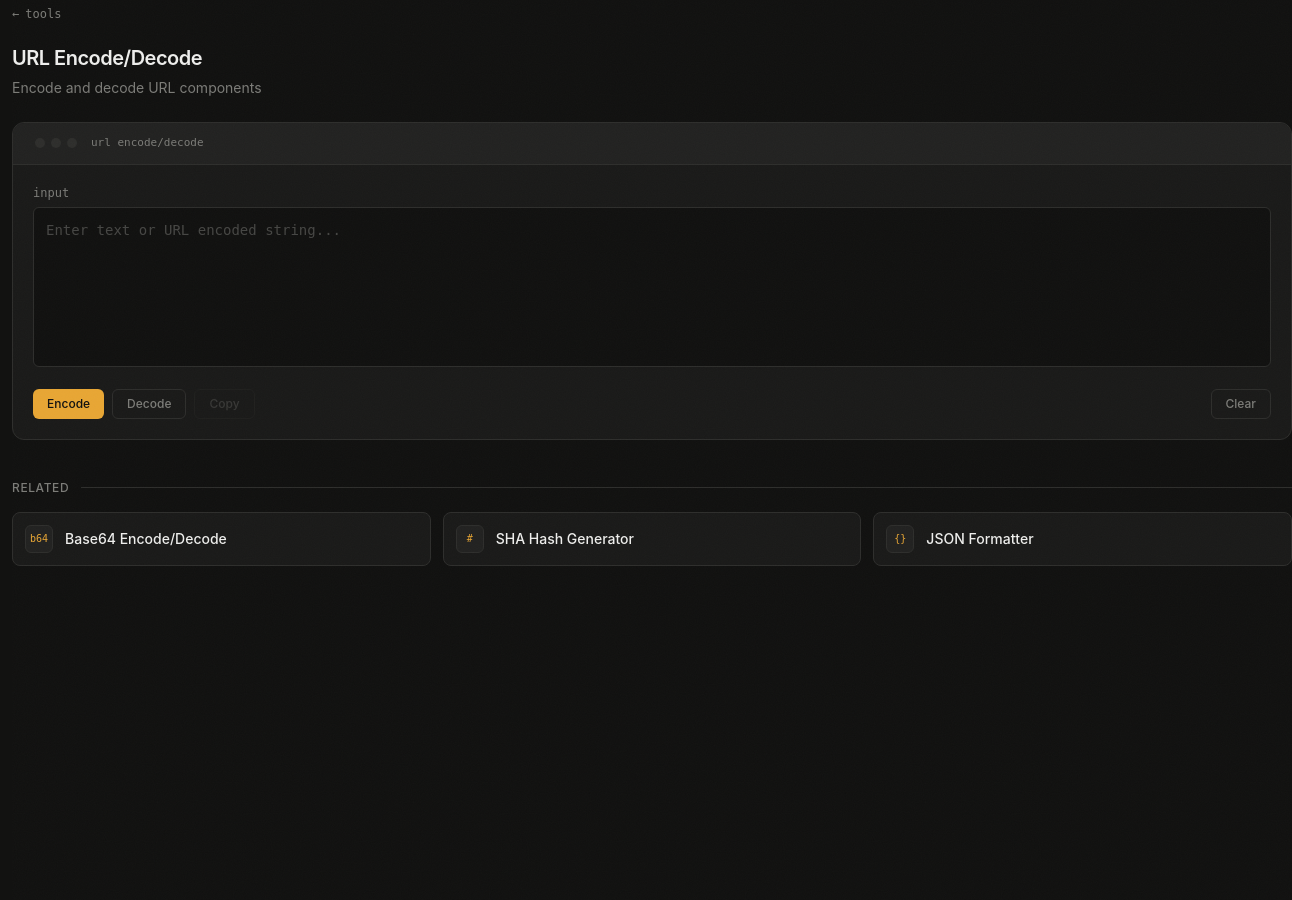
Test: URL Encode/Decode › decodes URL components
Type "hello%20world%26foo%3Dbar" into the text box with placeholder "Enter text or URL encoded string..." at (652, 286), box [33,206,1271,366]
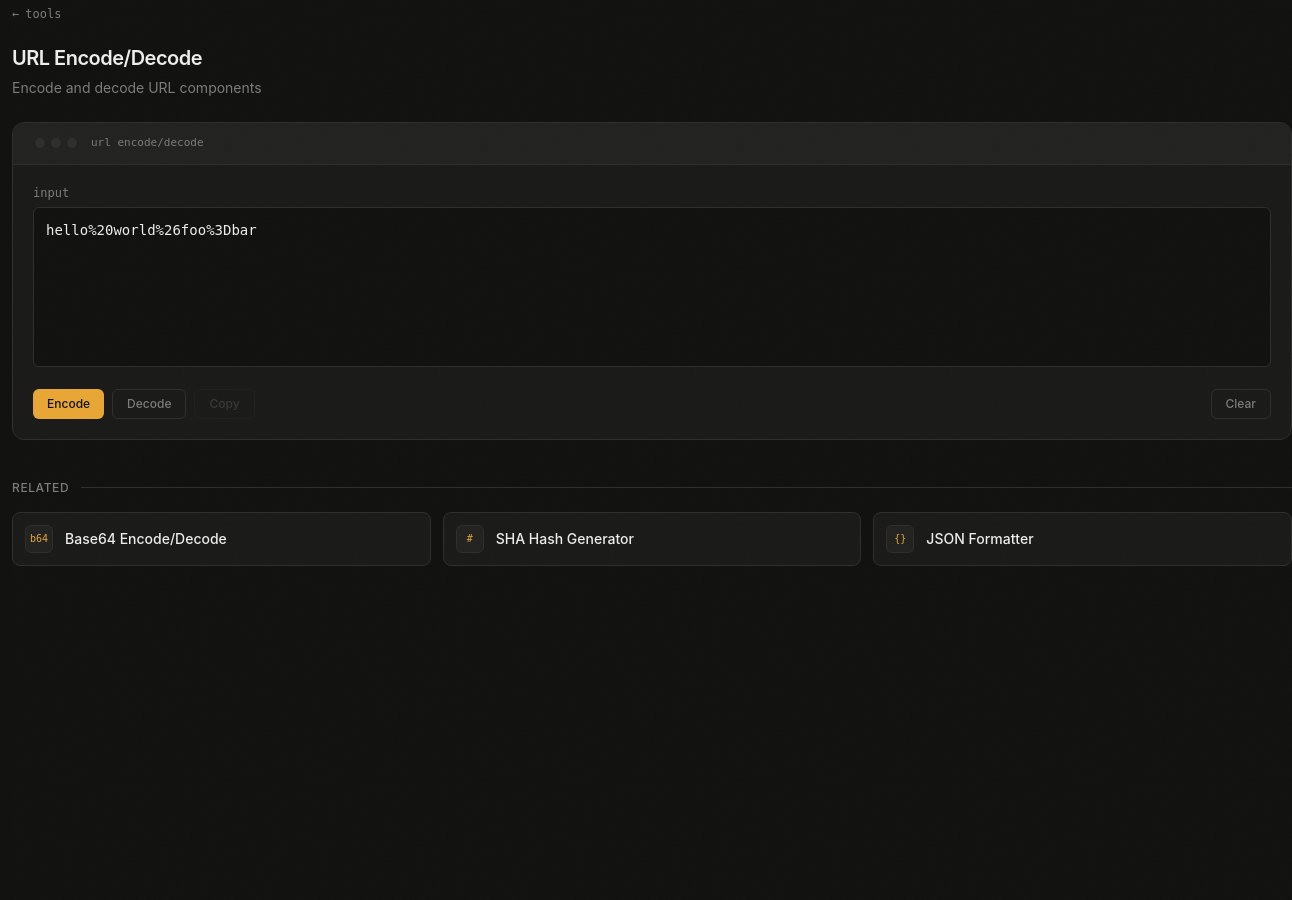
Click the button "Decode" at (149, 404), box [112,388,186,418]
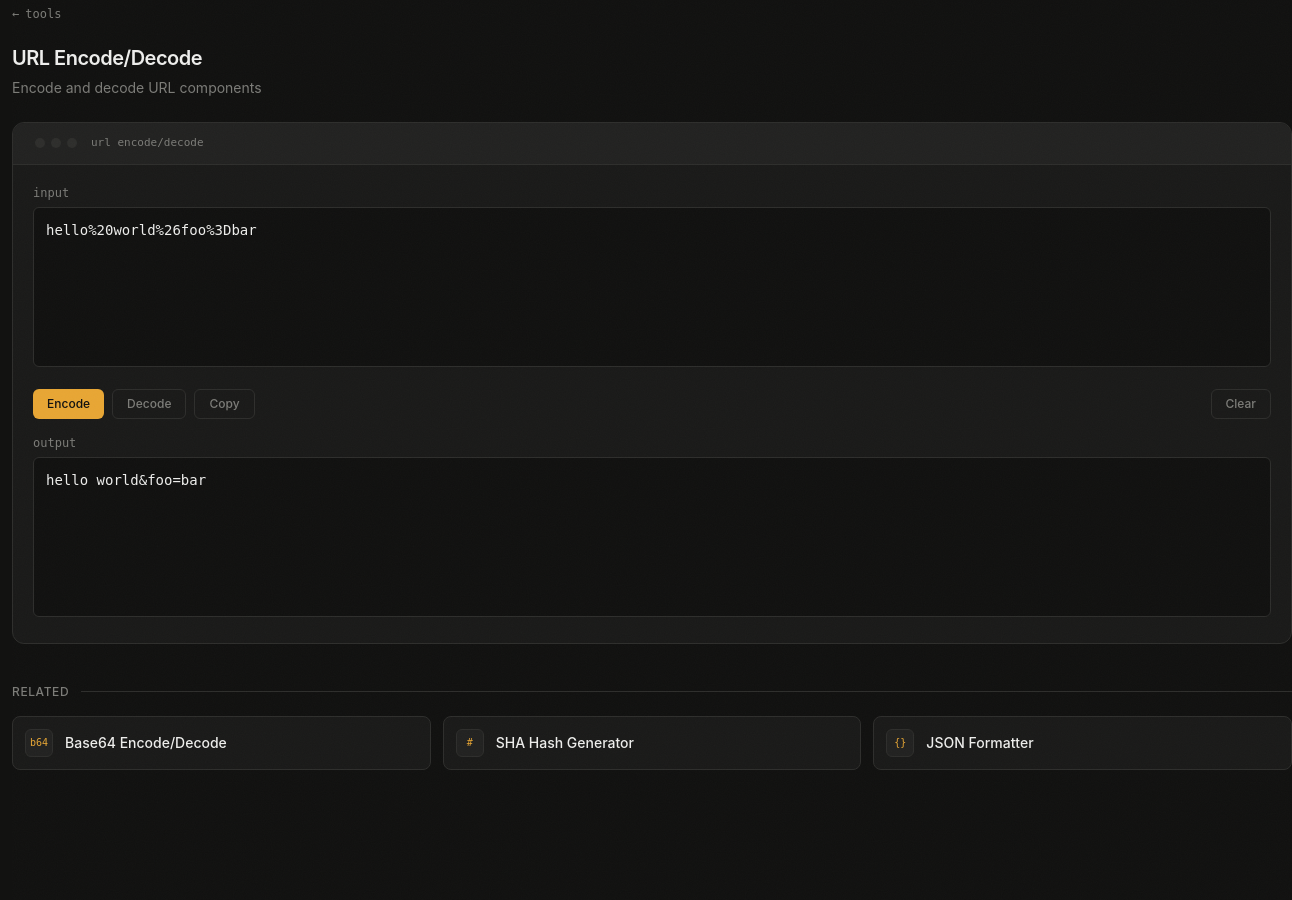
Now the text box showing "hello world&foo=bar" below "output" is shown, box [33,456,1271,616]
